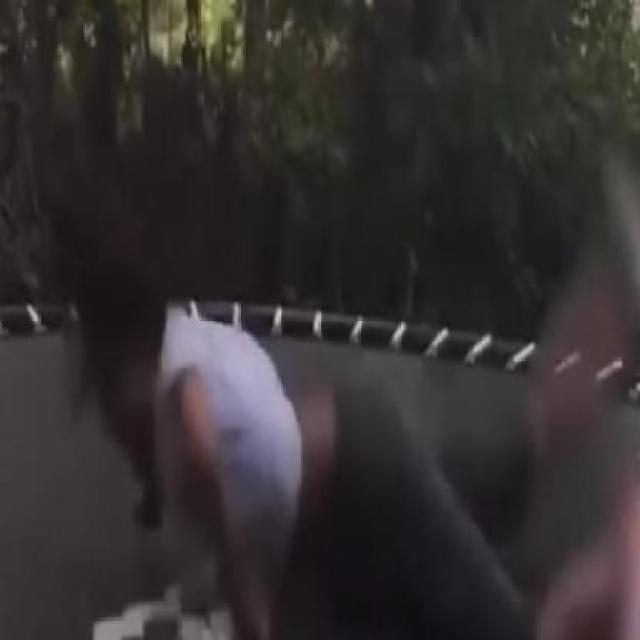fall: (81, 204, 638, 638)
